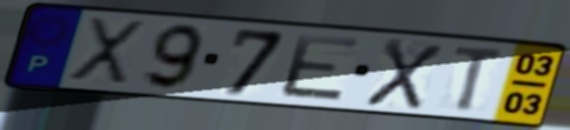7: (226, 25, 288, 98)
9: (140, 22, 207, 92)
E: (277, 31, 365, 104)
T: (450, 43, 509, 113)
X: (360, 36, 447, 112), (64, 15, 149, 89)
